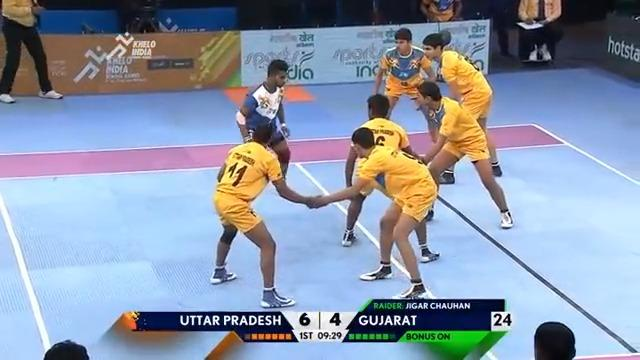Player: (307, 128, 440, 300), (207, 118, 322, 309), (413, 80, 514, 229), (418, 30, 503, 184), (370, 26, 439, 139)
Raider: (234, 58, 292, 182)
referee: (0, 0, 63, 103), (515, 0, 564, 64)
